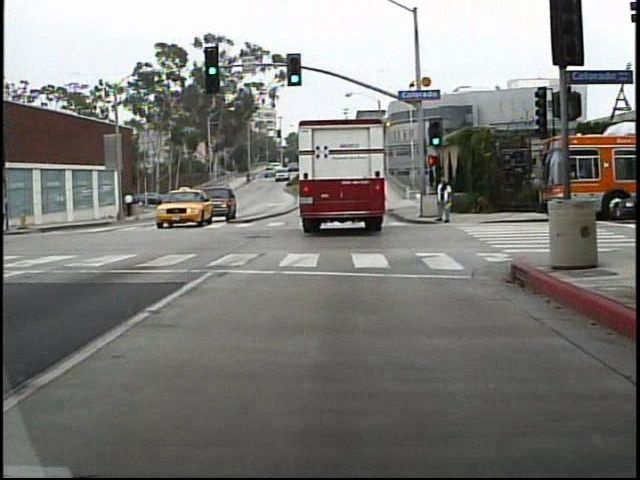person: (431, 174, 456, 227), (122, 188, 139, 220)
